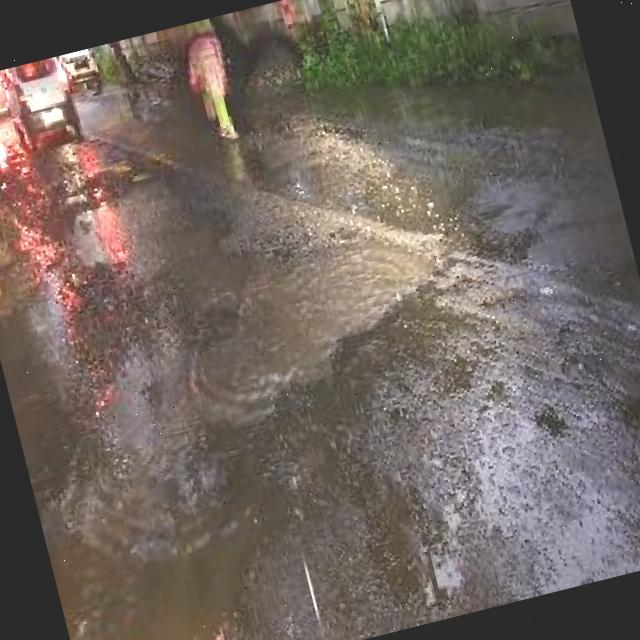stagnation: (16, 354, 369, 640)
